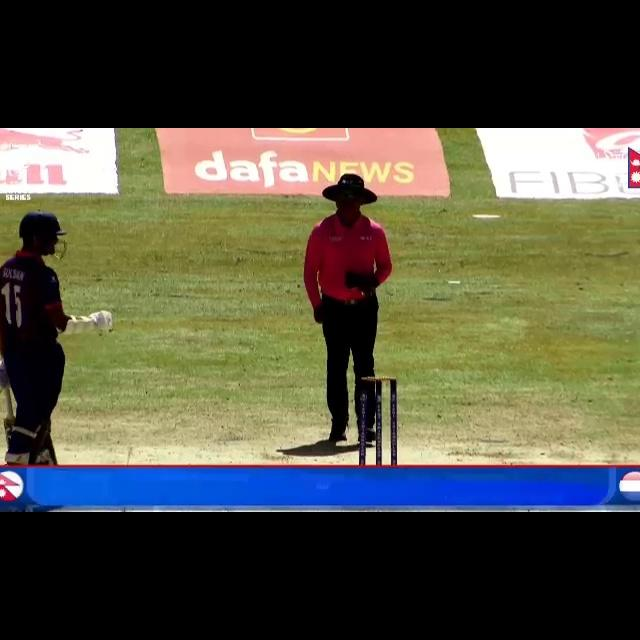umpire: (284, 158, 410, 450)
